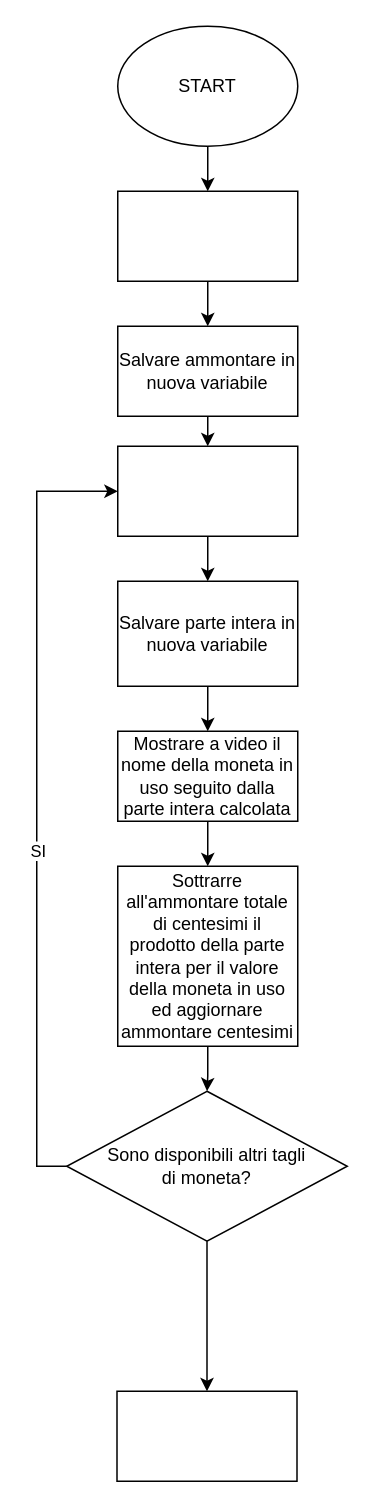
Some shapes in this 374 by 1508 pixel diagram are drawn without their labels. Each missing label, with the box of its shape:
Chiedere ammontare centesimi come intero in cifre: (116, 190, 298, 281)
Dividere ammontare per moneta di valore maggiore non ancora usata: (116, 445, 298, 536)
END: (116, 1390, 297, 1481)
